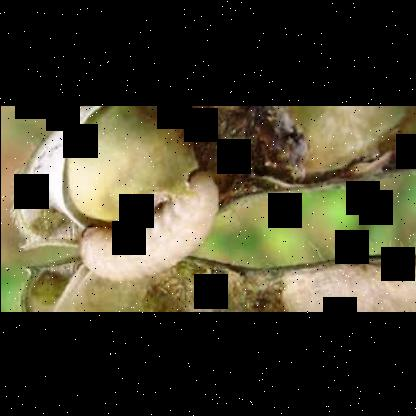oruga: (78, 170, 224, 280)
